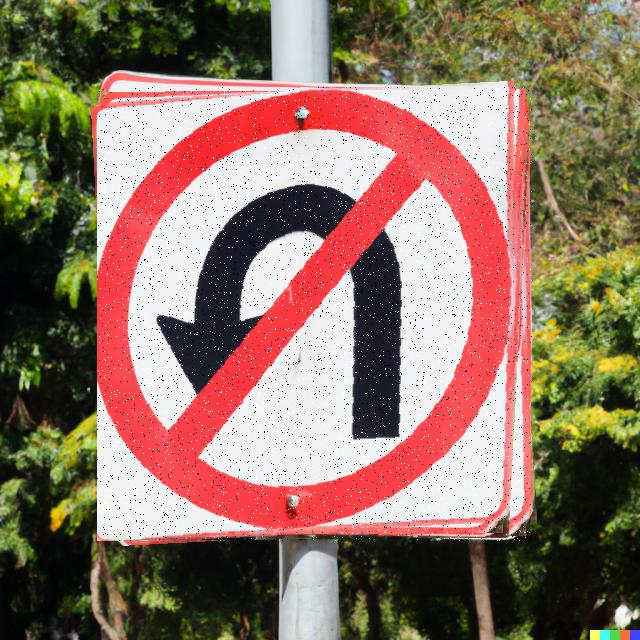no u turn: (97, 87, 532, 541)
